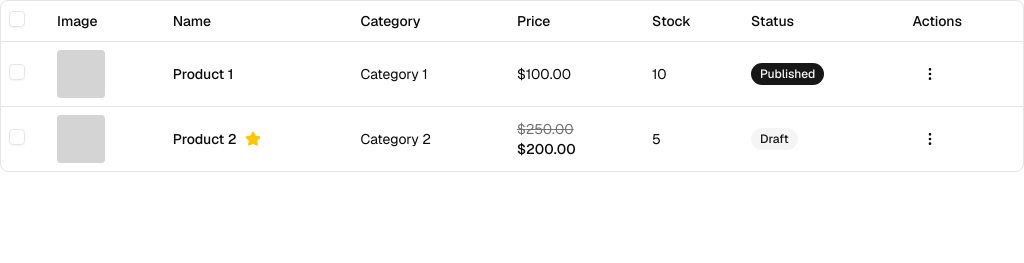
Test: ProductsTable › handles select all functionality
Click the checkbox named "Select all".
click(17, 19)  # box [9,11,25,27]
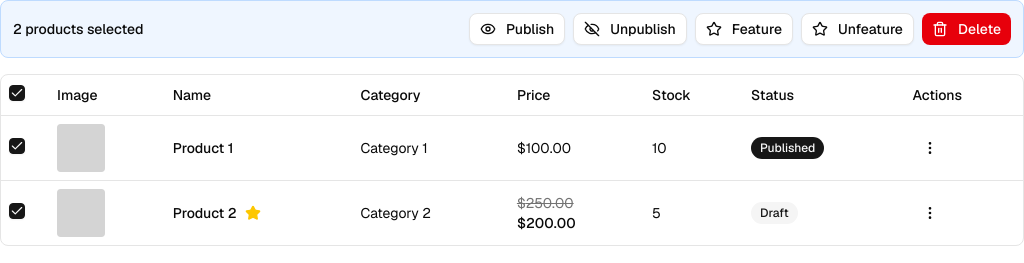
Expected: the checkbox named "Select row" next to "Product 1" is checked, [9,138,25,154]
Expected: the checkbox named "Select row" next to "Product 2" is checked, [9,202,25,218]
Expected: the text "2 products selected" is shown, [13,19,144,39]
Click the checkbox named "Select all".
click(17, 93)  # box [9,85,25,101]
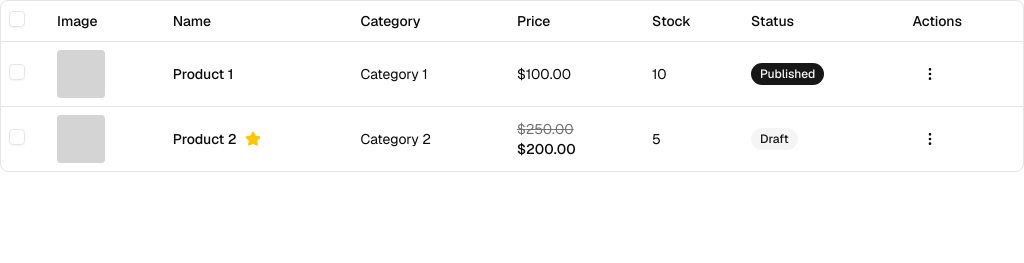
Expected: the checkbox named "Select row" next to "Product 1" is not checked, [9,64,25,80]
Expected: the checkbox named "Select row" next to "Product 2" is not checked, [9,128,25,144]
